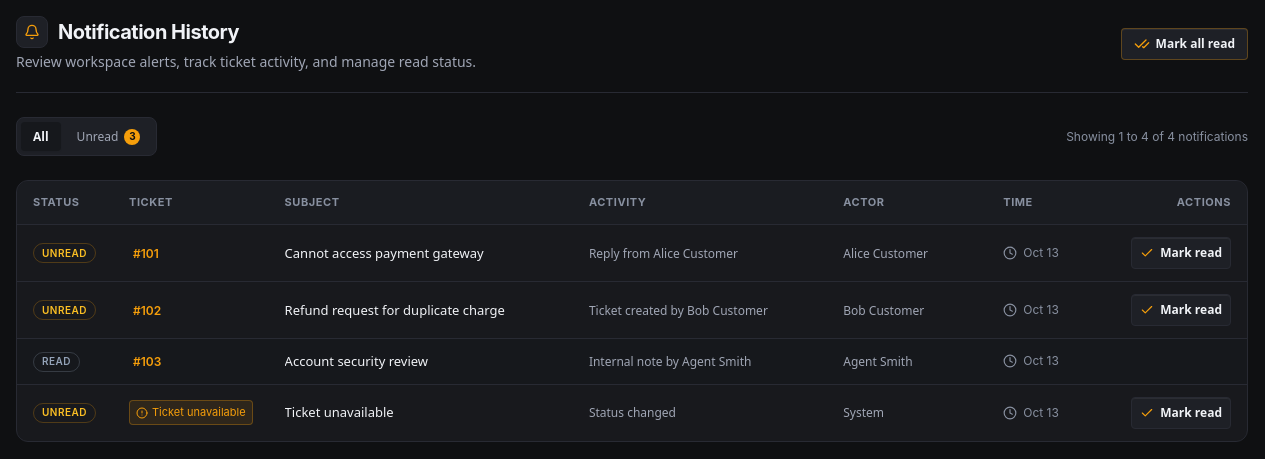
Test case: NotificationHistoryView Component › explicit Mark all read marks all notifications as read and retains them
Click the button with test id "history-mark-all-read-btn". click: (1184, 44)
box: [1121,28,1248,60]
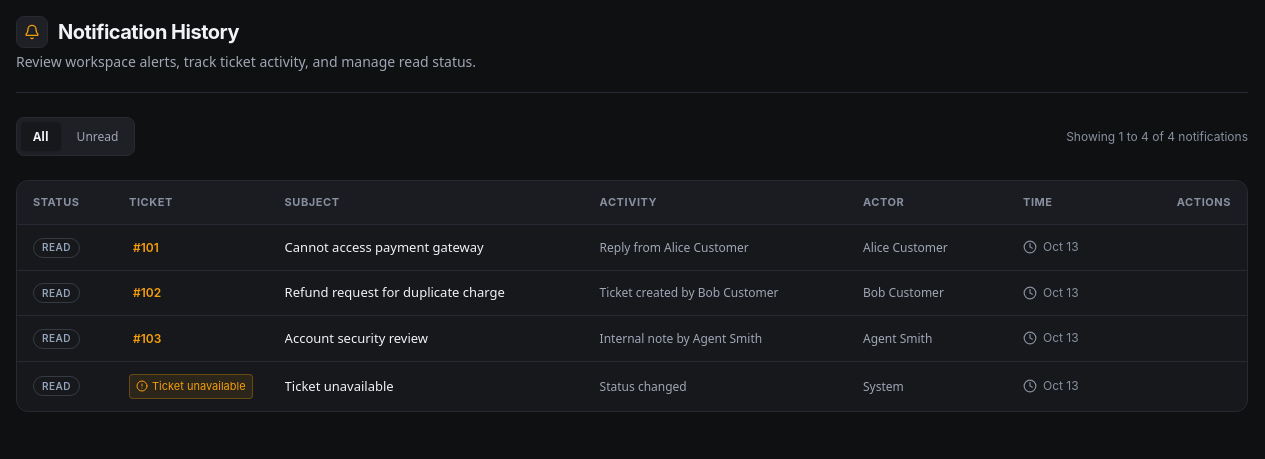
Expected: the button with test id "history-mark-read-btn-notif-101" is gone
Expected: the button with test id "history-mark-read-btn-notif-102" is gone
